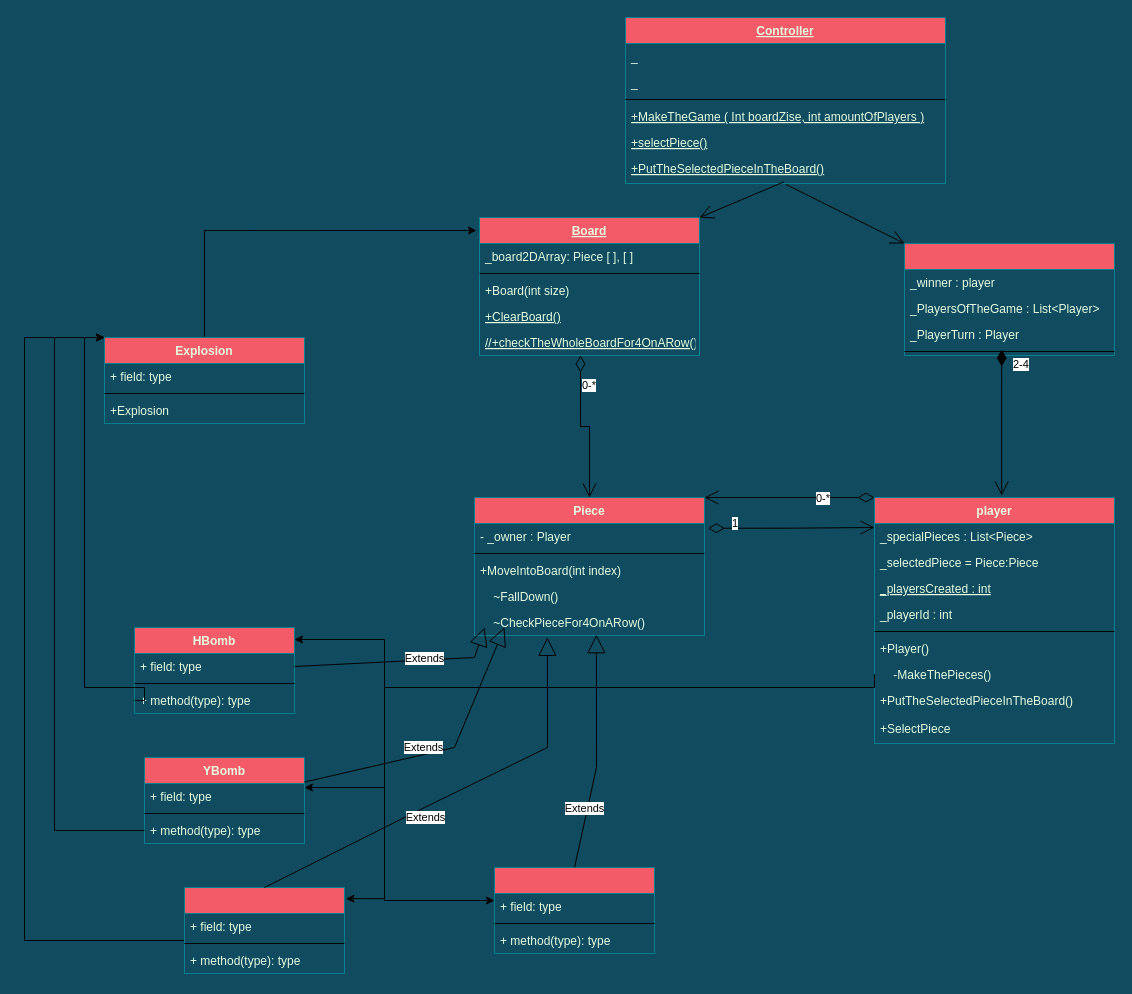
This 1132x994 diagram has some shape labels left out. The shapes that lost their labels are listed below. From the top down, each one's box as (x1, y1, x2, y2) in pixels, then its label:
(904, 242, 1114, 356): GameState
(184, 886, 344, 974): Barrier
(494, 866, 654, 954): Bunker
